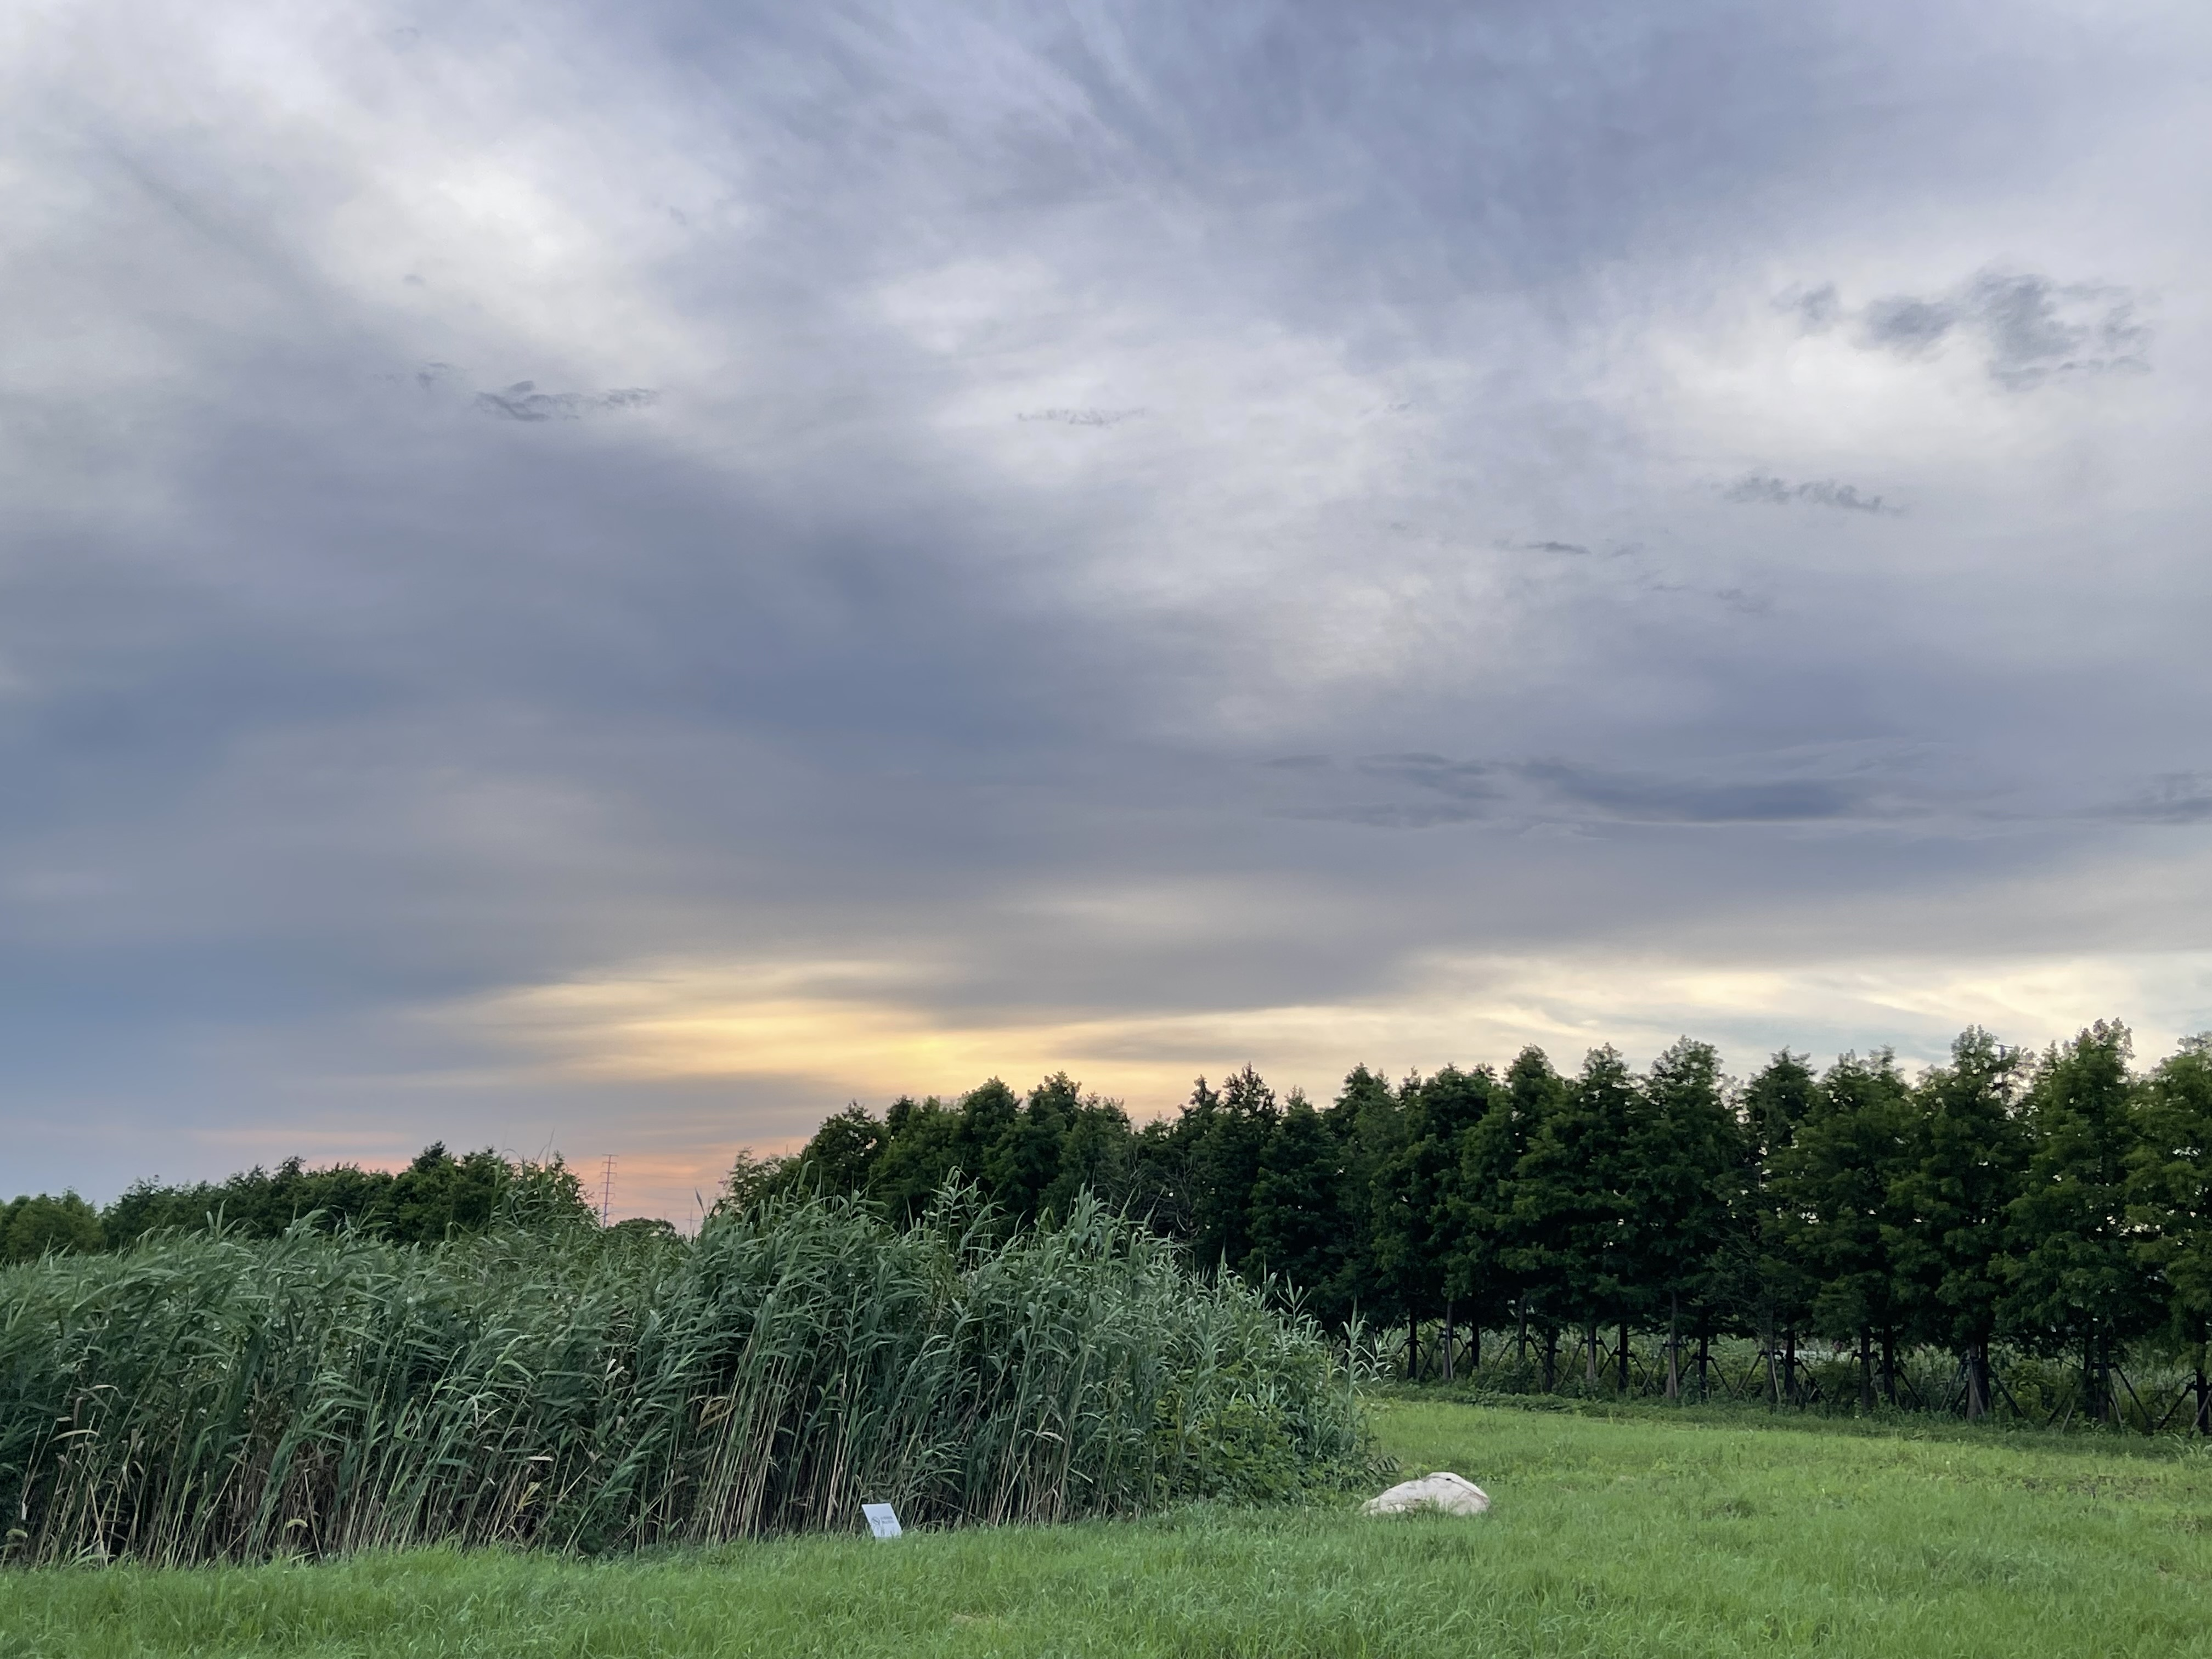Stratus: (63, 68, 2172, 1012)
